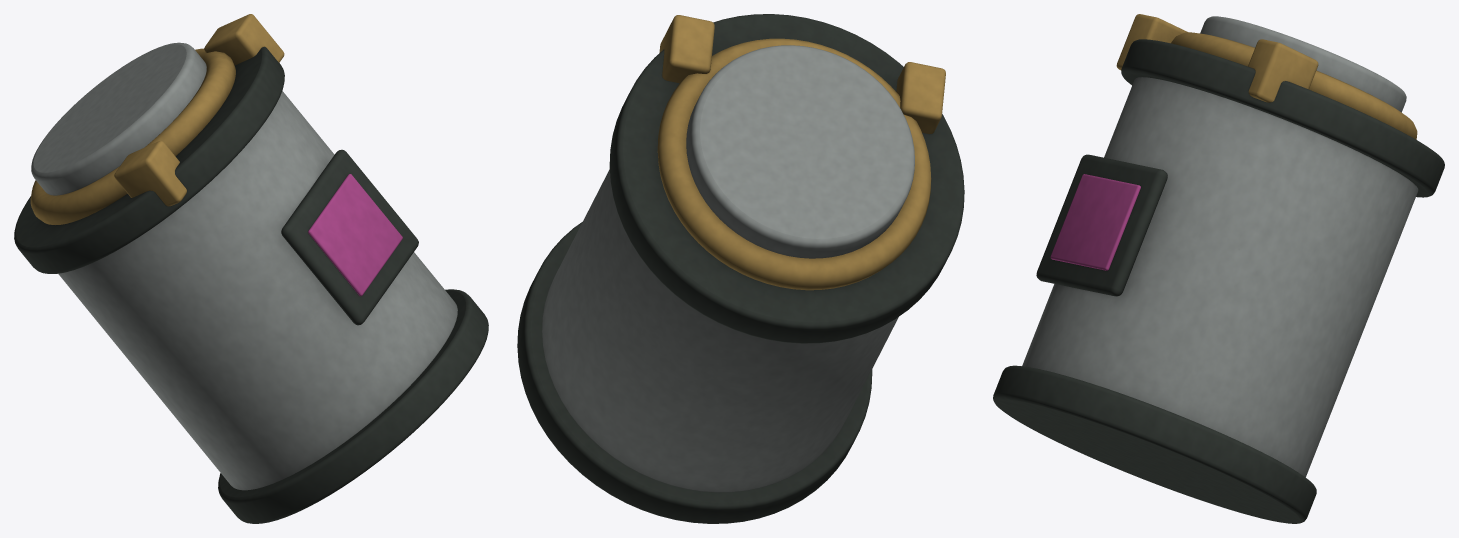
3 views of the same model, side by side, from view 1: azimuth 30°, elevation 25°; view 2: azimuth 150°, elevation 25°; view 3: azimuth 270°, elevation 25° (orthographic). The views are drawn at different scales.
Parts seen in each view (by area): view 1: Pressure shell; view 2: Pressure shell; view 3: Pressure shell.
Part boxes in pixels (x1,y1,x2,y2): Pressure shell: [14, 14, 488, 523]; Pressure shell: [517, 14, 964, 523]; Pressure shell: [993, 14, 1444, 523].
Bounding box in the file's own units: 1.2 × 1.33 × 1.13.
Materials: 1 (1 with a texture image).
